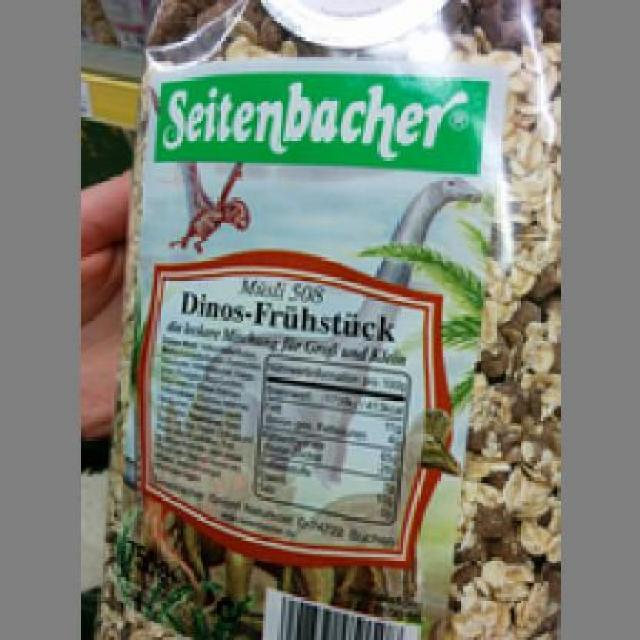Cereal: (94, 11, 557, 634)
